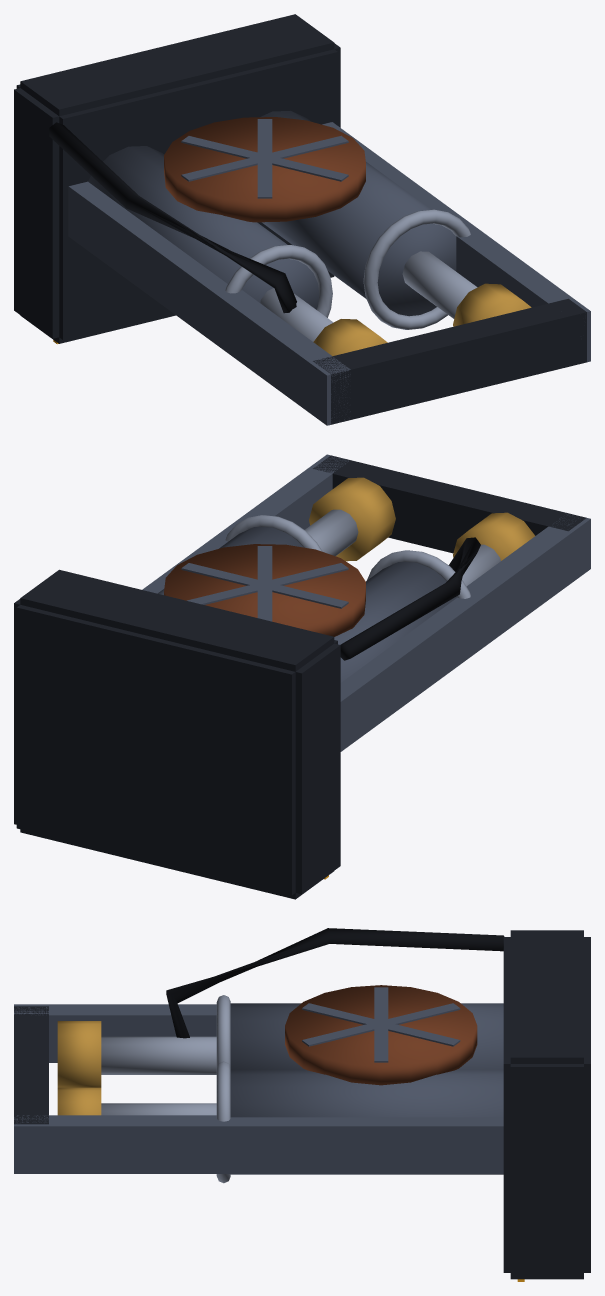
Rendered from shooter-piston.glb.
3 views of the same model, one above another, from view 1: azimuth 30°, elevation 25°; view 2: azimuth 150°, elevation 25°; view 3: azimuth 270°, elevation 25° (orthographic). The views are drawn at different scales.
Parts seen in each view (by area): view 1: Model Mesh, Spin- Flywheel Mesh, Pump 1 Mesh, Pump 0 Mesh; view 2: Model Mesh, Spin- Flywheel Mesh, Pump 1 Mesh, Pump 0 Mesh; view 3: Model Mesh, Spin- Flywheel Mesh, Pump 0 Mesh, Pump 1 Mesh.
Boxes of the visible parts, left/top/right/bottom form: Model Mesh: left=14, top=14, right=590, bottom=425; Spin- Flywheel Mesh: left=164, top=117, right=365, bottom=222; Pump 1 Mesh: left=402, top=251, right=531, bottom=326; Pump 0 Mesh: left=260, top=288, right=387, bottom=356; Model Mesh: left=14, top=454, right=590, bottom=899; Spin- Flywheel Mesh: left=164, top=544, right=365, bottom=636; Pump 1 Mesh: left=305, top=477, right=395, bottom=561; Pump 0 Mesh: left=453, top=512, right=534, bottom=586; Model Mesh: left=14, top=928, right=590, bottom=1281; Spin- Flywheel Mesh: left=285, top=985, right=477, bottom=1085; Pump 0 Mesh: left=57, top=1021, right=216, bottom=1087; Pump 1 Mesh: left=57, top=1087, right=216, bottom=1115.
Size of the model in its own units: 1.94 by 1.42 by 3.3.
2 materials, 2 textured.
